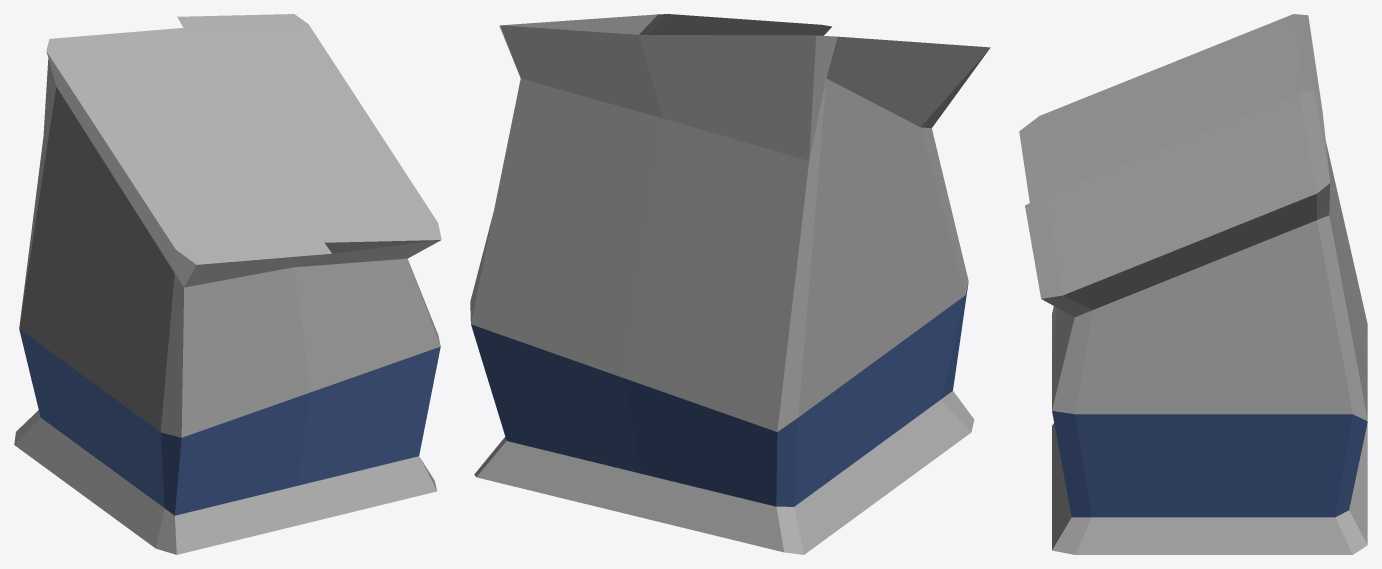
Rendered from Cocina Paquete harina.fbx.
3 renders of one model, left to right at view 1: azimuth 30°, elevation 25°; view 2: azimuth 150°, elevation 25°; view 3: azimuth 270°, elevation 25°, orthographic. The views are drawn at different scales.
Visible parts, largest first — view 1: Paquete; view 2: Paquete; view 3: Paquete.
Boxes of the visible parts, box(x1,y1,x2,y2) form: Paquete: box(14, 14, 441, 554); Paquete: box(470, 14, 990, 554); Paquete: box(1019, 14, 1367, 554).
Size of the model in its own units: 14.49 by 20.58 by 15.78.
